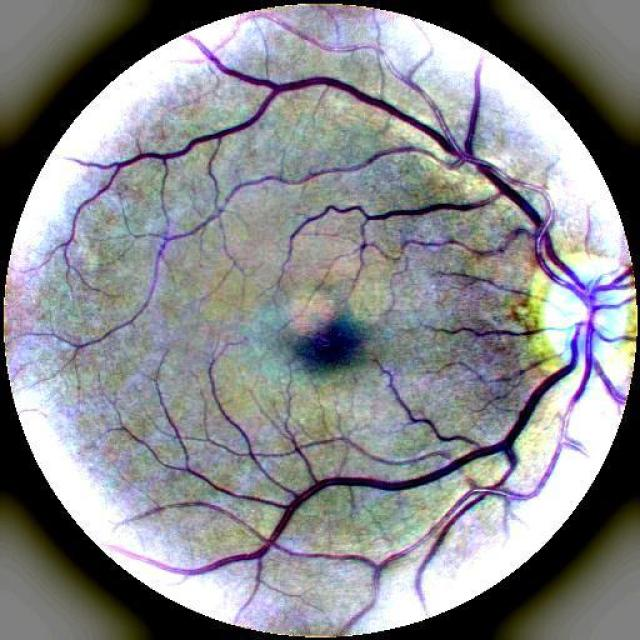Macula: (287, 312, 375, 381)
Nerves: (111, 38, 634, 580), (441, 326, 559, 338)
Optic Disk: (531, 255, 627, 373)
